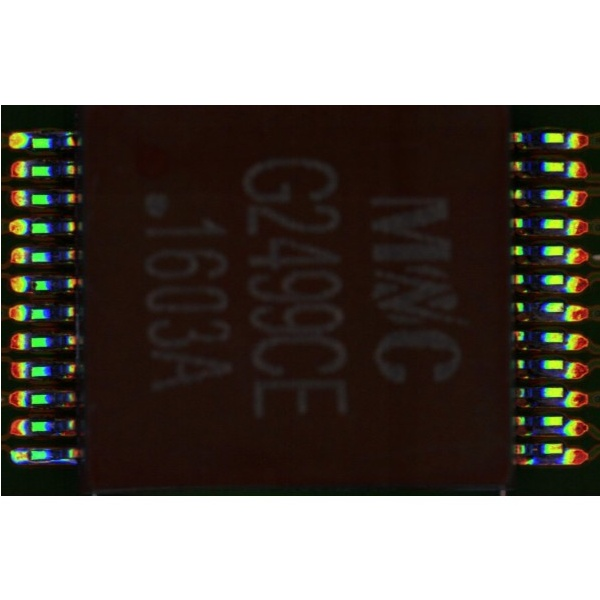Bad_podu: (21, 451, 35, 459)
Bad_qiaojiao: (30, 458, 74, 463)
